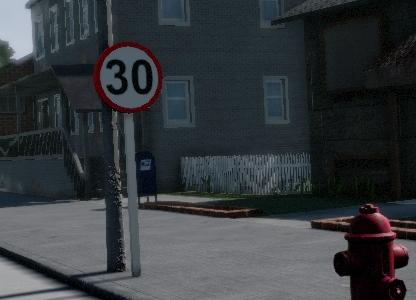Speed_30: (207, 20, 293, 106)
